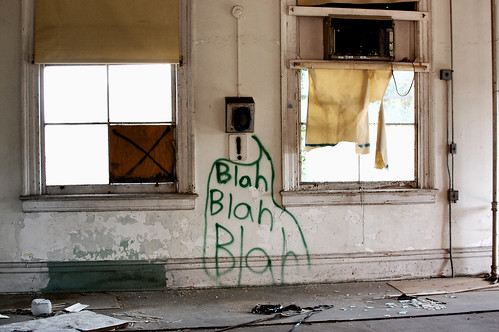graffiti: (202, 142, 317, 297)
window: (35, 4, 188, 201), (303, 1, 417, 191)
